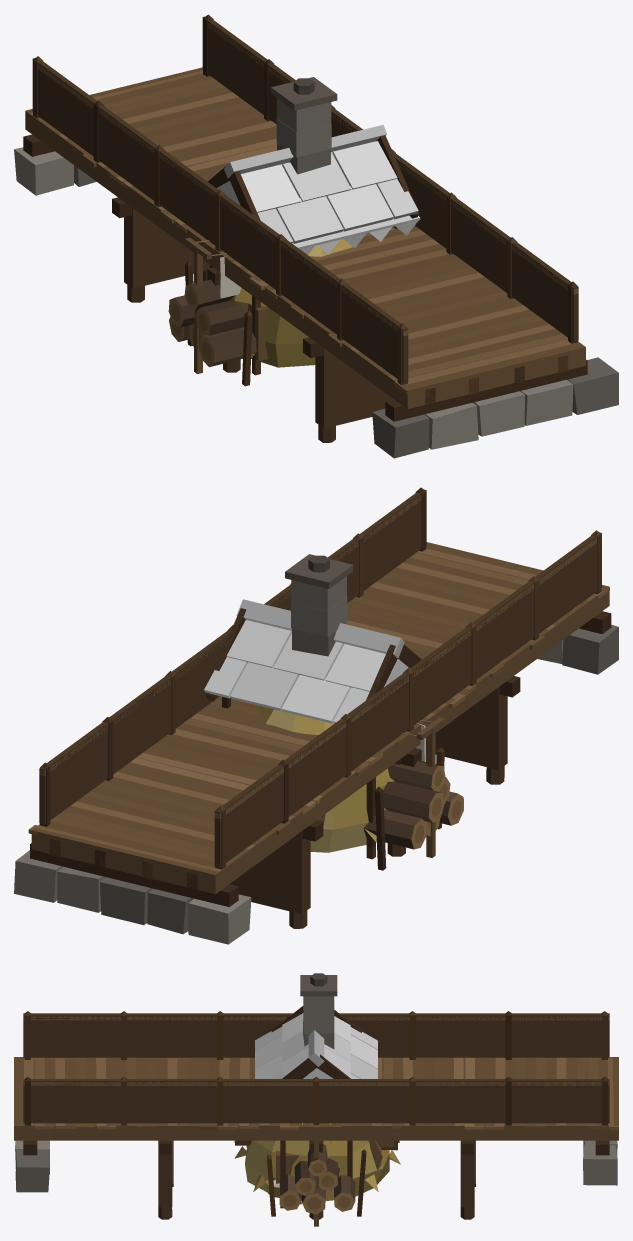
The model's file is village.glb.
The picture shows the model from 3 angles, top to bottom: view 1: azimuth 30°, elevation 25°; view 2: azimuth 150°, elevation 25°; view 3: azimuth 270°, elevation 25°; orthographic projection. The views are drawn at different scales.
Visible parts, largest first — view 1: bridge_lo, bridge, well, log_pile, forge, haystack, market_stall_lo, clothesline, market_stall; view 2: bridge_lo, bridge, well, log_pile, forge, haystack, clothesline; view 3: bridge_lo, bridge, well, log_pile, haystack, forge, market_stall_lo, clothesline, cart_lo.
Boxes of the visible parts, box(x1,y1,x2,y2) form: bridge_lo: box(25, 16, 585, 428); bridge: box(14, 14, 618, 458); well: box(207, 124, 419, 243); log_pile: box(168, 260, 256, 386); forge: box(271, 77, 337, 174); haystack: box(231, 239, 352, 367); market_stall_lo: box(209, 215, 420, 364); clothesline: box(185, 237, 241, 373); market_stall: box(209, 221, 417, 375); bridge_lo: box(31, 489, 609, 914); bridge: box(14, 487, 618, 944); well: box(204, 599, 421, 723); log_pile: box(363, 747, 463, 870); forge: box(261, 554, 353, 708); haystack: box(257, 705, 394, 852); clothesline: box(401, 717, 444, 857); bridge_lo: box(14, 1013, 618, 1207); bridge: box(15, 1011, 618, 1219); well: box(255, 1006, 377, 1078); log_pile: box(267, 1144, 366, 1216); haystack: box(234, 1140, 400, 1200); forge: box(300, 973, 339, 1204); market_stall_lo: box(276, 1140, 352, 1183); clothesline: box(265, 1122, 333, 1226); cart_lo: box(235, 1140, 397, 1168).
Size of the model in its own units: 4.82 by 5.03 by 13.
